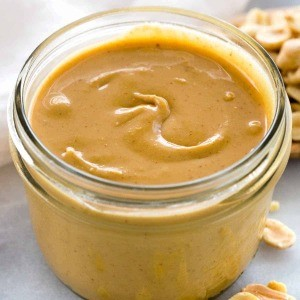peanut butter_brain food: (36, 34, 259, 280)
